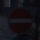No entry: (5, 5, 35, 35)
